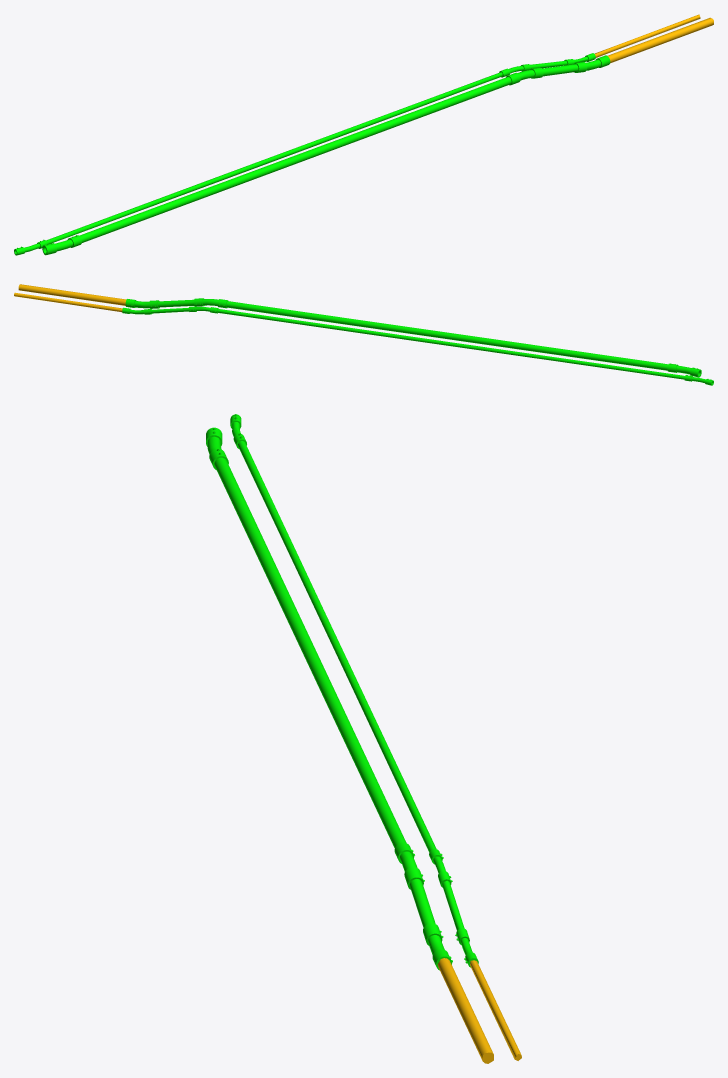
The model's file is sample.glb.
3 views of the same model, one above another, from view 1: azimuth 30°, elevation 25°; view 2: azimuth 150°, elevation 25°; view 3: azimuth 270°, elevation 25° (orthographic). The views are drawn at different scales.
Parts seen in each view (by area): view 1: layer:conduit; view 2: layer:conduit; view 3: layer:conduit.
Boxes of the visible parts, <box> form: layer:conduit: <box>14,14,713,255</box>; layer:conduit: <box>14,284,713,385</box>; layer:conduit: <box>206,414,521,1063</box>.
Bounding box in the file's own units: 4.2 × 0.1354 × 0.9111.
